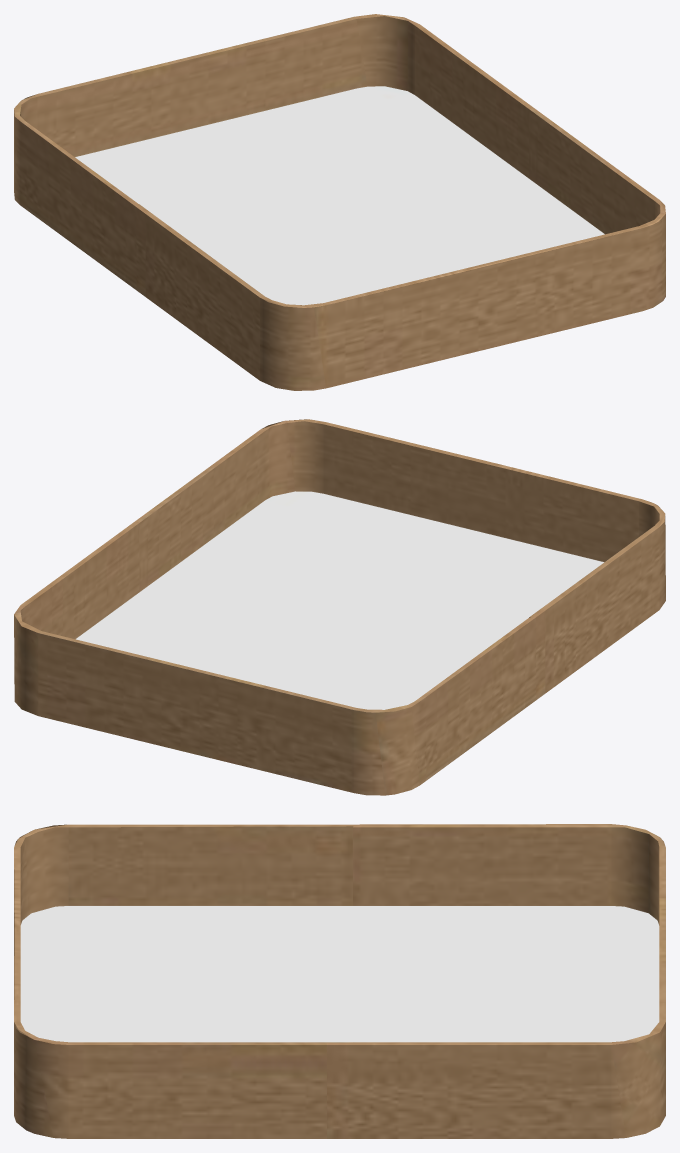
The model's file is 08 - DVÄRGSYREN Mirror - oak veneer 40x50 cm.glb.
3 renders of one model, top to bottom at view 1: azimuth 30°, elevation 25°; view 2: azimuth 150°, elevation 25°; view 3: azimuth 270°, elevation 25°, orthographic. The views are drawn at different scales.
Visible parts, largest first — view 1: 30591591-DVÃƒâ€žRGSYREN001; view 2: 30591591-DVÃƒâ€žRGSYREN001; view 3: 30591591-DVÃƒâ€žRGSYREN001.
Part boxes in pixels (box(x1,y1,x2,y2)): 30591591-DVÃƒâ€žRGSYREN001: box(14, 14, 665, 390); 30591591-DVÃƒâ€žRGSYREN001: box(14, 419, 665, 795); 30591591-DVÃƒâ€žRGSYREN001: box(14, 824, 665, 1138).
Bounding box in the file's own units: 0.4001 × 0.0801 × 0.5.
2 materials, 2 textured.
